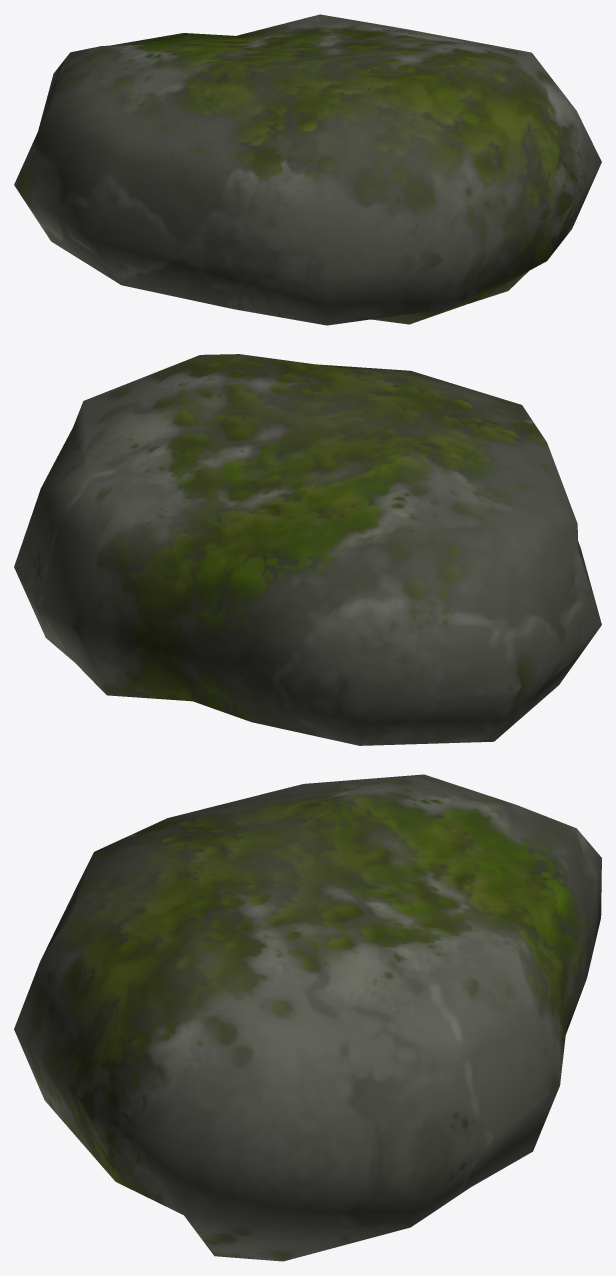
Rendered from Smooth_Boulder_01.fbx.
3 renders of one model, top to bottom at view 1: azimuth 30°, elevation 25°; view 2: azimuth 150°, elevation 25°; view 3: azimuth 270°, elevation 25°, orthographic. The views are drawn at different scales.
Visible parts, largest first — view 1: Smooth_Boulder_01; view 2: Smooth_Boulder_01; view 3: Smooth_Boulder_01.
Boxes of the visible parts, x1=… form: Smooth_Boulder_01: x1=14, y1=14, x2=601, y2=325; Smooth_Boulder_01: x1=14, y1=354, x2=601, y2=745; Smooth_Boulder_01: x1=14, y1=774, x2=601, y2=1261.
Bounding box in the file's own units: 5.25 × 2.64 × 4.54.
Materials: 1 (1 with a texture image).
